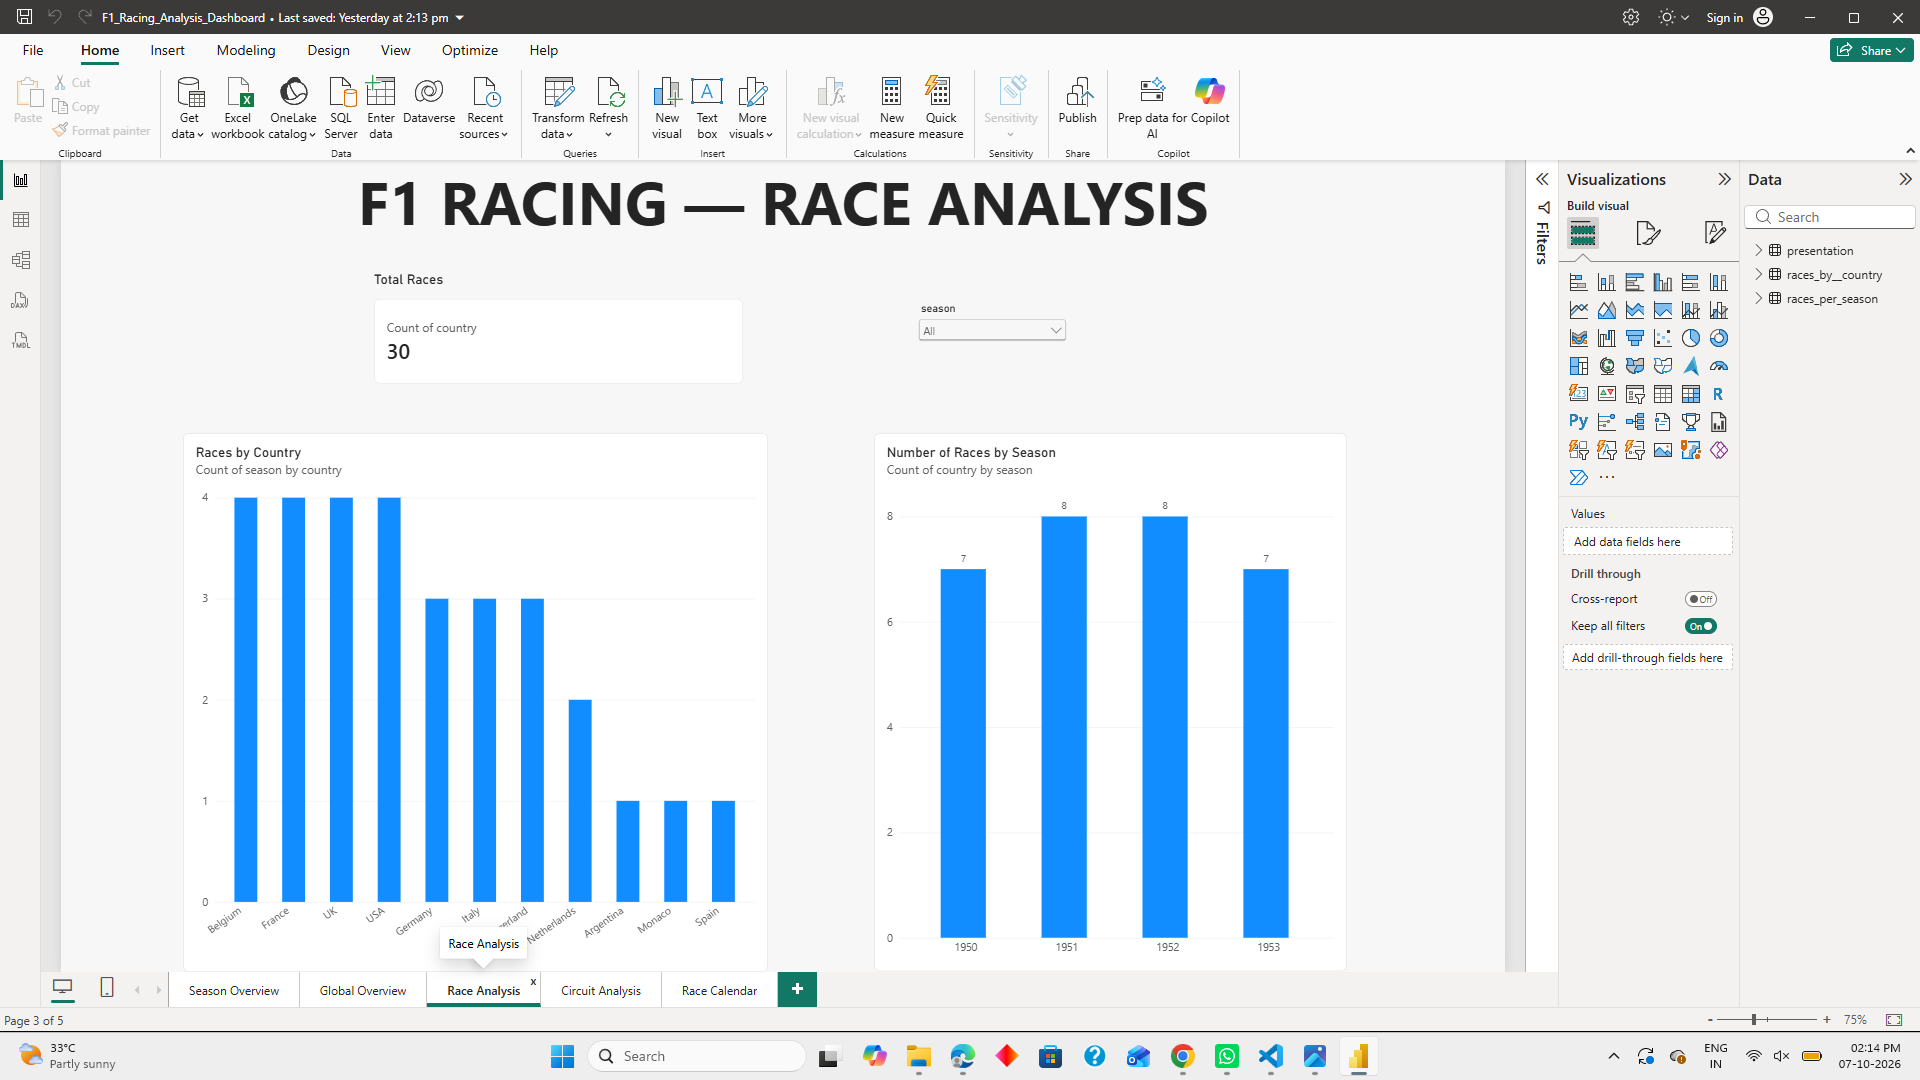

What the dashboard file says about the page in this screenshot:
{"tool":"powerbi","page":{"name":"Race Analysis","canvas":[1920,1080],"ordinal":2},"visuals":[{"type":"textbox","box":[0,0,1921.2,147.3],"z":0},{"type":"cardVisual","title":"Total Races","fields":{"Data":["CountNonNull(presentation.country)"]},"box":[416.7,147.2,491.7,150],"z":1000},{"type":"slicer","fields":{"Values":["presentation.season"]},"box":[1136.1,188.9,205.6,175],"z":2000},{"type":"clusteredColumnChart","title":"Races by Country","fields":{"Category":["presentation.country"],"Y":["CountNonNull(presentation.season)"]},"box":[161.8,363.6,777.8,716.7],"z":3000},{"type":"clusteredColumnChart","title":"Number of Races by Season","fields":{"Category":["presentation.season"],"Y":["CountNonNull(presentation.country)"]},"box":[1081.8,363.6,629.1,716.4],"z":4000}]}

Visuals, with their boxes on the page's 1920x1080 design canvas (x1, y1, x2, y2). These are canvas units, not pixel positions in the 1920x1080 screenshot, which may show the page scaled, cropped or inside an application window:
textbox: 0:0:1921:147
"Total Races" cardVisual: 417:147:908:297
slicer - presentation.season: 1136:189:1342:364
"Races by Country" clusteredColumnChart: 162:364:940:1080
"Number of Races by Season" clusteredColumnChart: 1082:364:1711:1080
